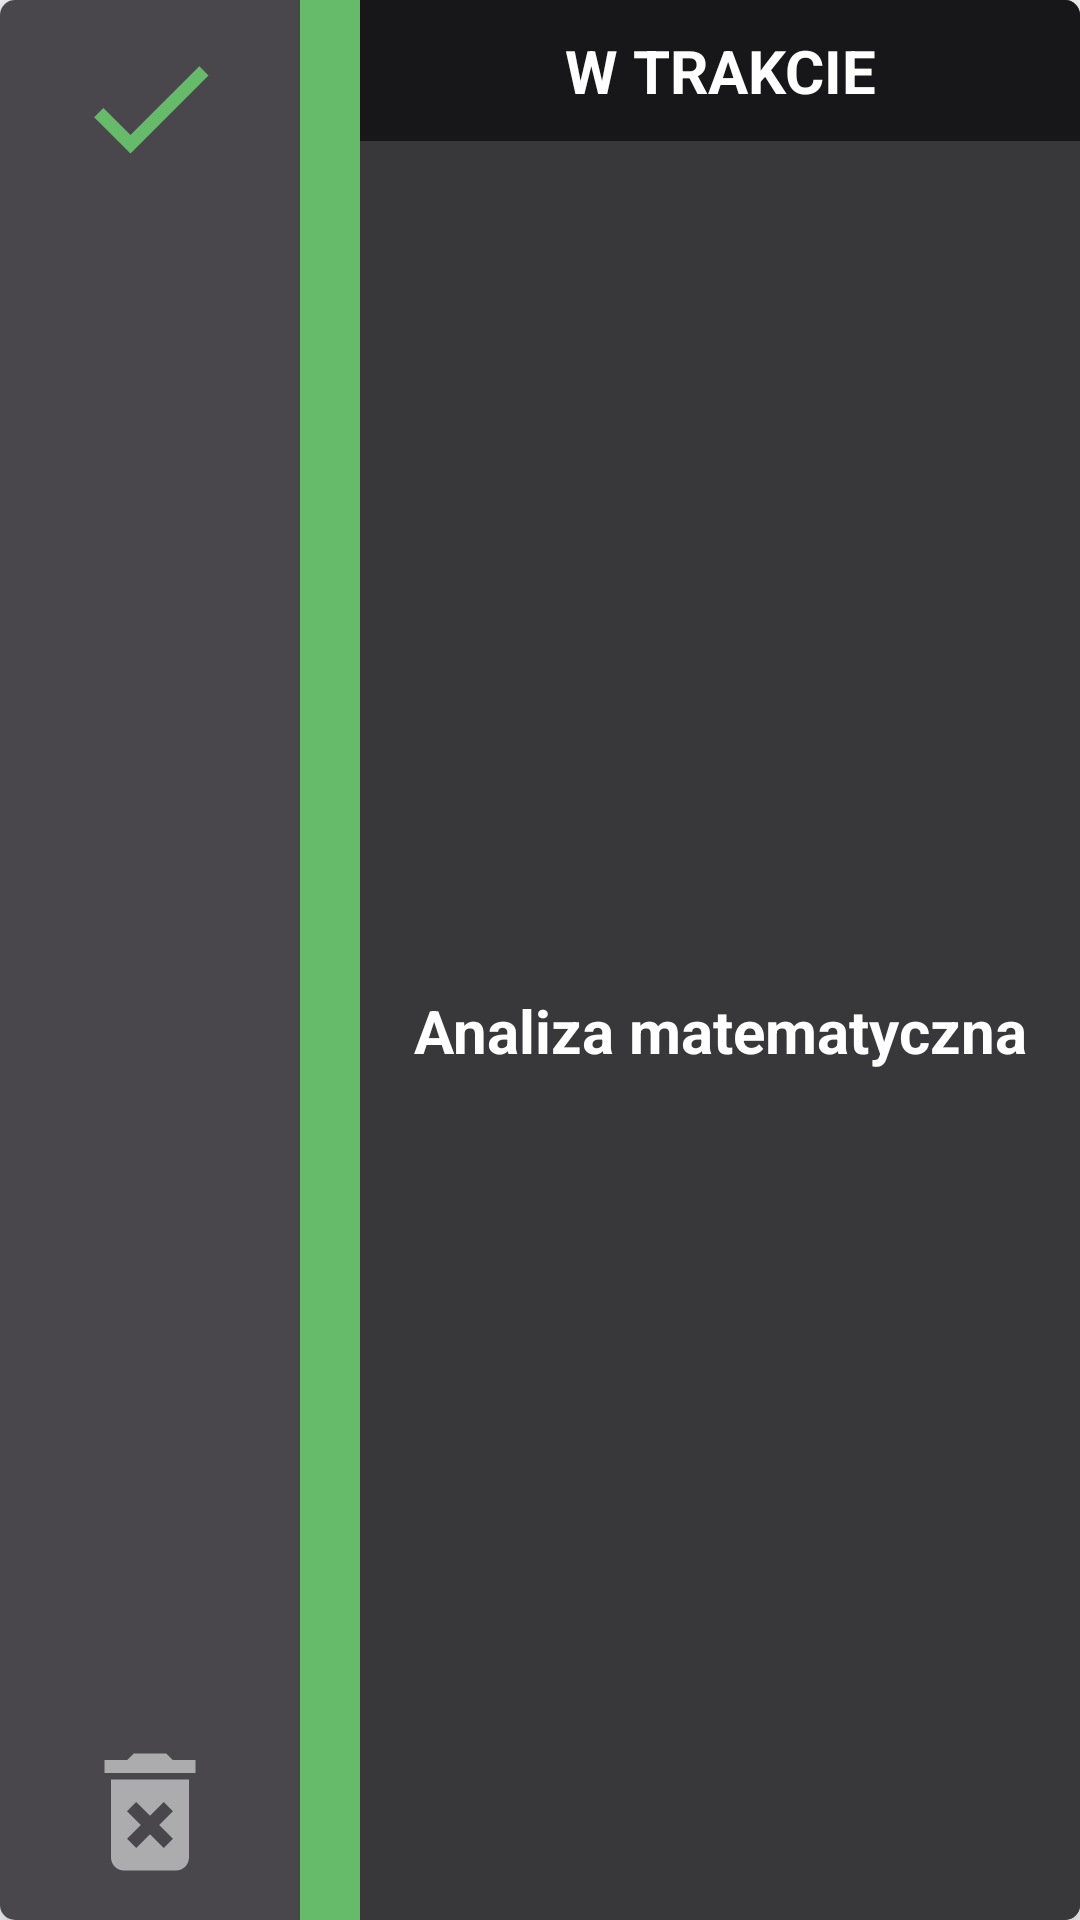

Where icons sit on this 1080×1920 app screen, as (x1, y1, x2, y2):
check: (94, 66, 209, 154)
delete: (104, 1753, 196, 1871)
